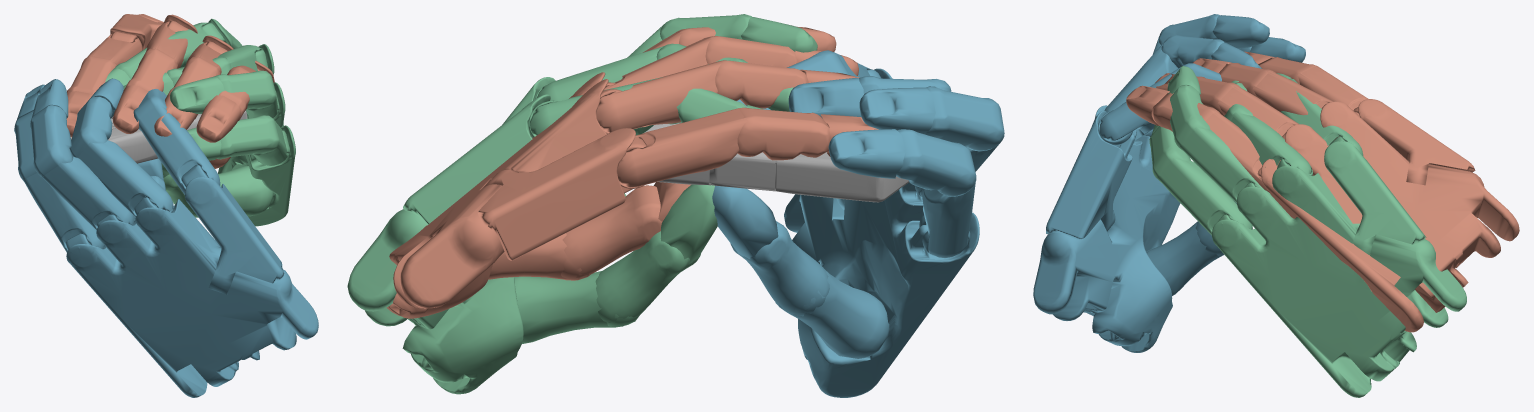
The model's file is ddg-gd_stapler_poisson_017_grasp.glb.
3 renders of one model, left to right at view 1: azimuth 30°, elevation 25°; view 2: azimuth 150°, elevation 25°; view 3: azimuth 270°, elevation 25°, orthographic. The views are drawn at different scales.
Size of the model in its own units: 0.2059 by 0.1612 by 0.2425.
